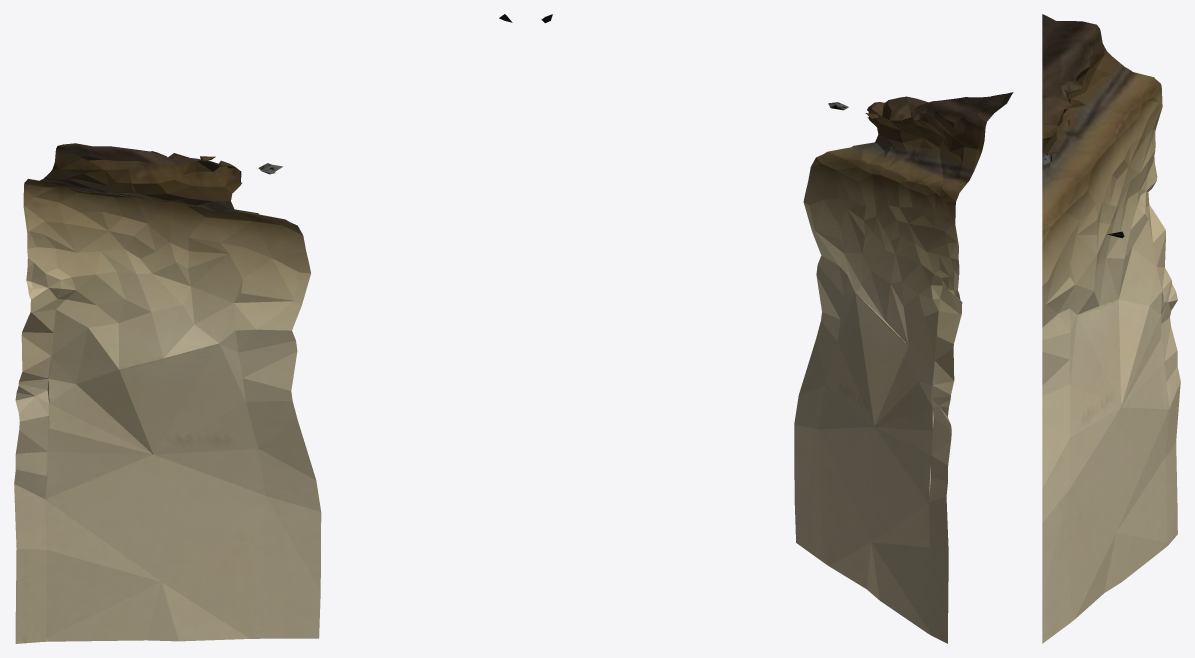
The picture shows the model from 3 angles, left to right: view 1: azimuth 30°, elevation 25°; view 2: azimuth 150°, elevation 25°; view 3: azimuth 270°, elevation 25°; orthographic projection. The views are drawn at different scales.
Size of the model in its own units: 1.49 by 1.65 by 0.399.
1 material, 1 textured.
